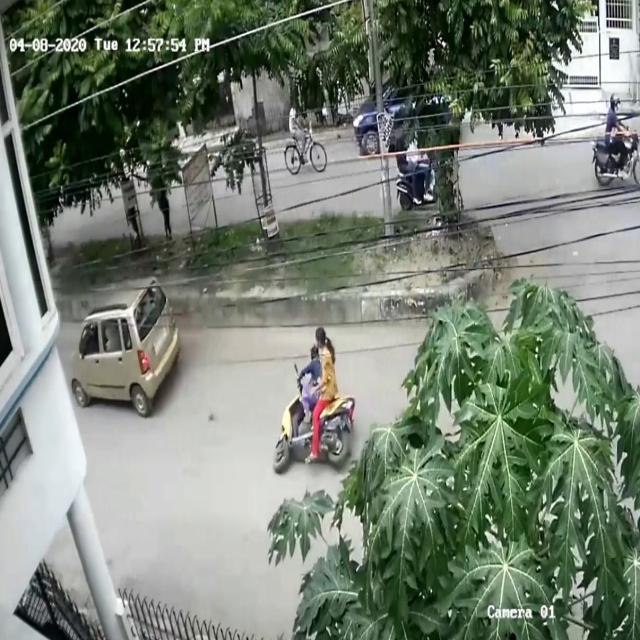accident: (266, 313, 354, 479)
